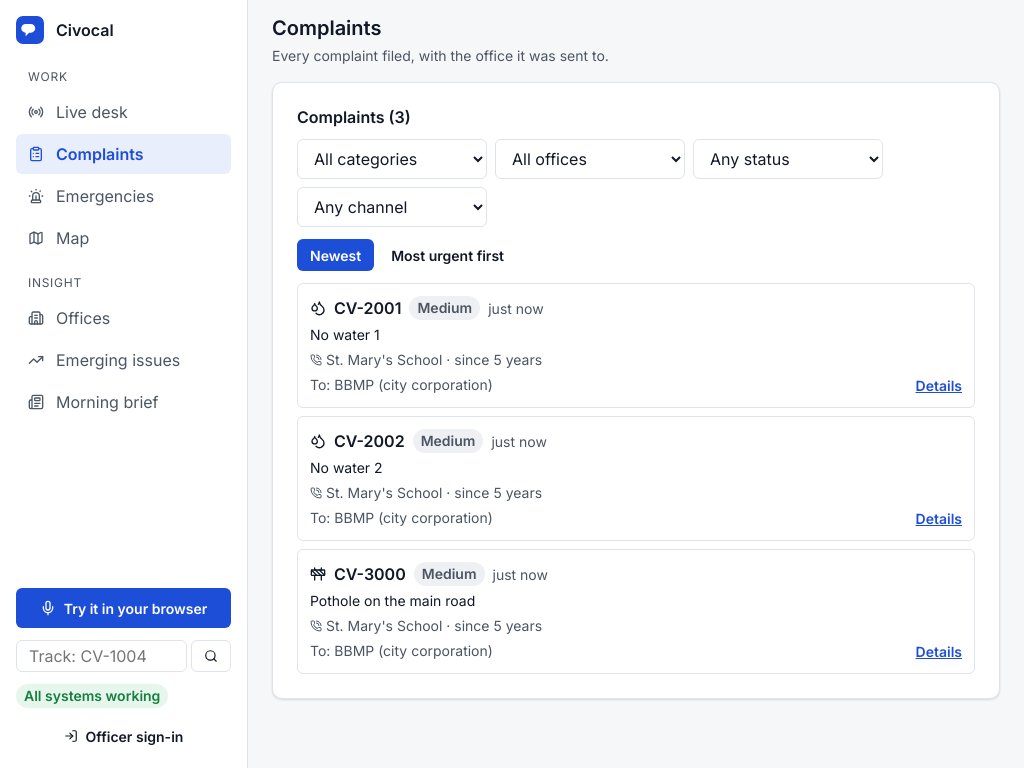
Test case: the Category filter narrows the list, counts what it will show, and lives in the address
Expected: the heading "Complaints (3)" is shown, [297,107,411,127]
Select "Water (2)" in the dropdown named "Category" at (392, 159), box [297,139,487,179]
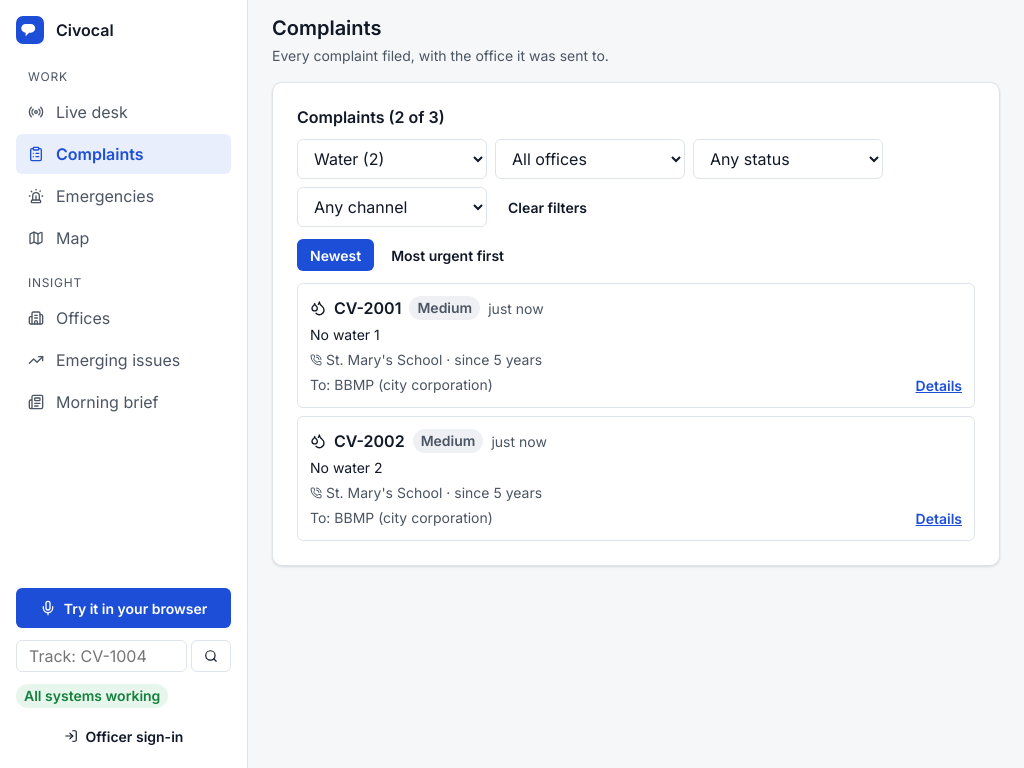
Expected: the text "No water 1" is shown, [310,324,380,345]
Result: the heading "Complaints (2 of 3)" is shown at [297,107,445,127]
Result: the button "Pothole on the main road" is gone
Click the button "Clear filters" at (547, 207), box [495,191,600,223]
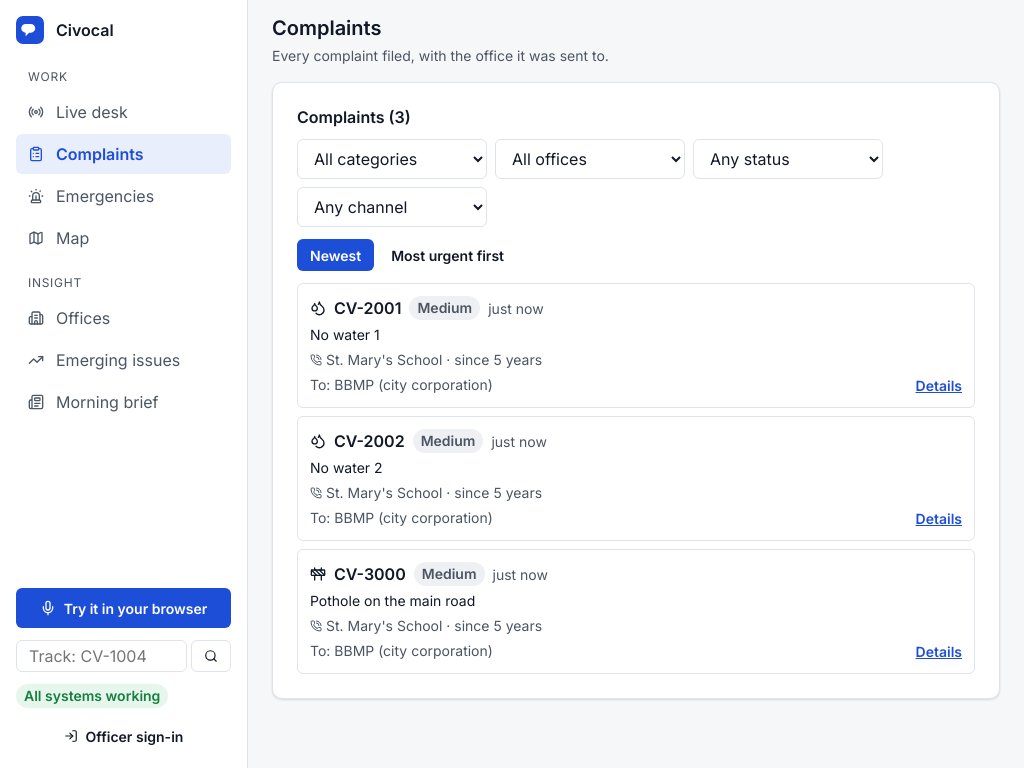
Result: the heading "Complaints (3)" is shown at [297,107,411,127]
